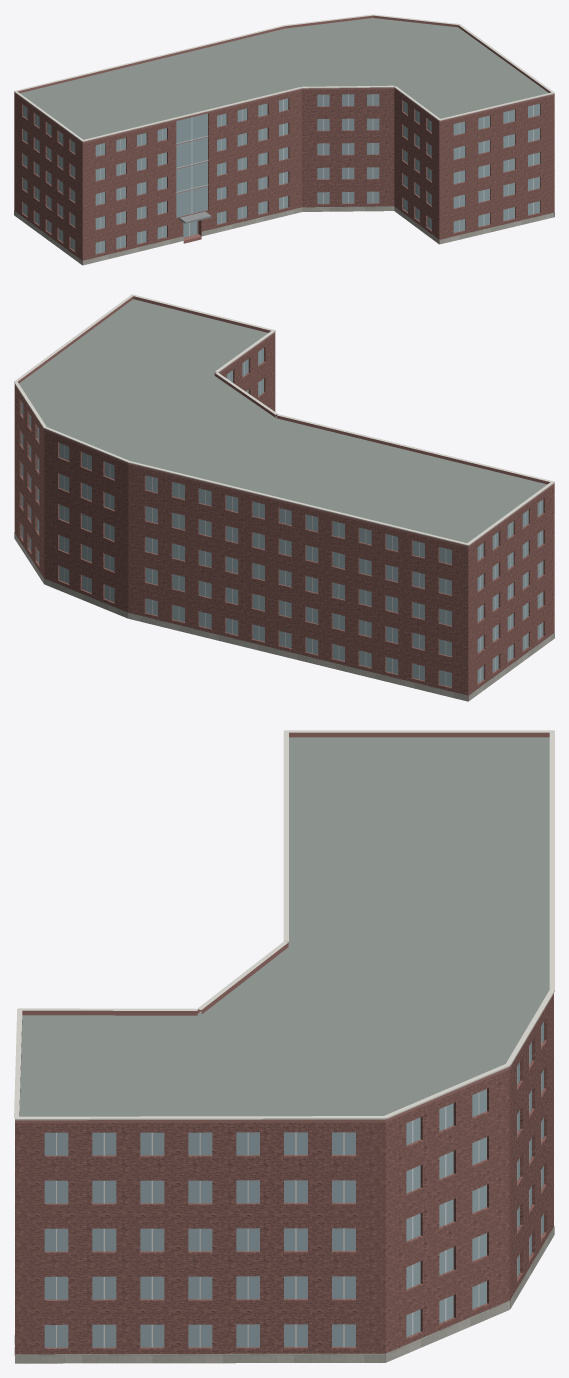
3 views of the same model, one above another, from view 1: azimuth 30°, elevation 25°; view 2: azimuth 150°, elevation 25°; view 3: azimuth 270°, elevation 25° (orthographic). The views are drawn at different scales.
Visible parts, largest first — view 1: b115951751__wall, b115951751__roof, b115951751__glass, b115951751__base, b115951751__parapet, b115951751__trim, b115951751__frame; view 2: b115951751__wall, b115951751__roof, b115951751__glass, b115951751__trim, b115951751__parapet, b115951751__base, b115951751__frame; view 3: b115951751__roof, b115951751__wall, b115951751__glass, b115951751__trim, b115951751__base, b115951751__parapet, b115951751__frame.
Part boxes in pixels (x1,y1,x2,y2): b115951751__wall: [14, 89, 554, 264]; b115951751__roof: [20, 18, 548, 211]; b115951751__glass: [23, 94, 539, 253]; b115951751__base: [14, 206, 554, 265]; b115951751__parapet: [14, 15, 554, 143]; b115951751__trim: [14, 14, 554, 141]; b115951751__frame: [25, 94, 533, 252]; b115951751__wall: [14, 334, 554, 701]; b115951751__roof: [19, 299, 547, 542]; b115951751__glass: [21, 348, 543, 687]; b115951751__trim: [14, 294, 554, 545]; b115951751__parapet: [14, 296, 554, 547]; b115951751__base: [14, 532, 554, 701]; b115951751__frame: [38, 350, 540, 685]; b115951751__roof: [19, 737, 549, 1363]; b115951751__wall: [15, 995, 553, 1362]; b115951751__glass: [44, 1022, 543, 1347]; b115951751__trim: [14, 730, 554, 1120]; b115951751__base: [14, 1226, 554, 1363]; b115951751__parapet: [15, 732, 553, 1123]; b115951751__frame: [56, 1026, 541, 1347].
Size of the model in its own units: 62.48 by 18.75 by 36.76.
10 materials, 2 textured.
